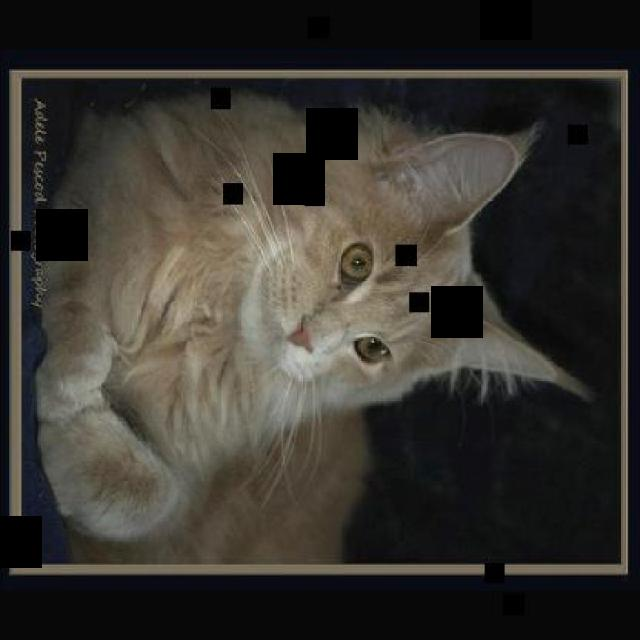unauthorized: (32, 84, 594, 550)
